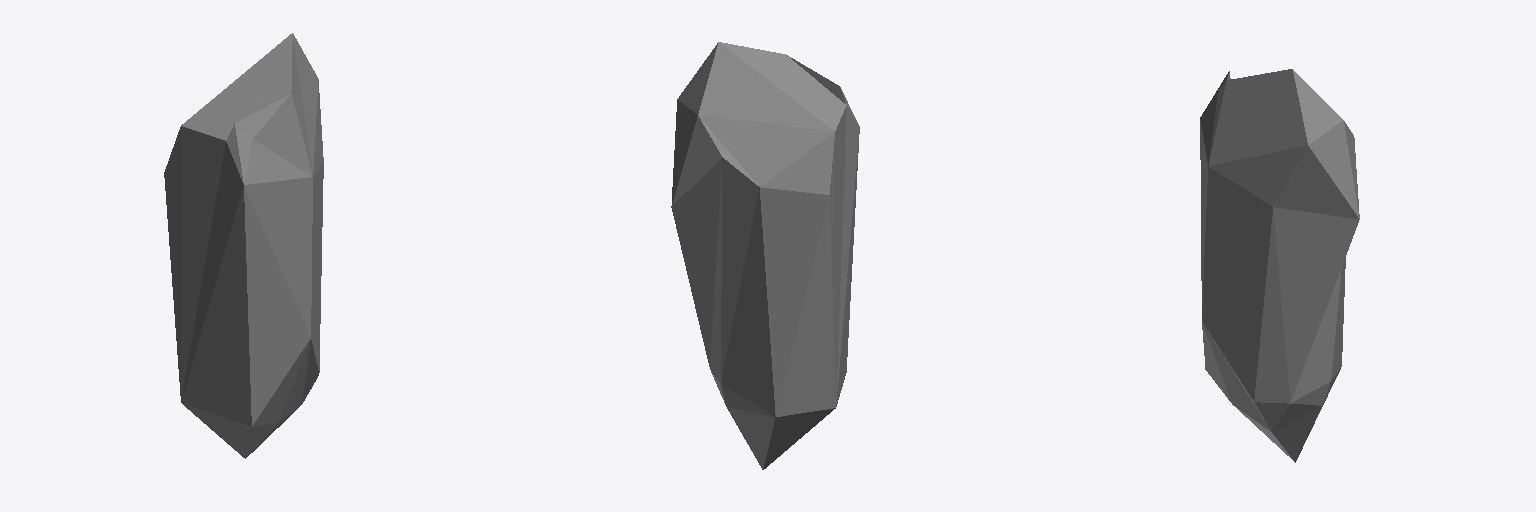
The picture shows the model from 3 angles: view 1: azimuth 30°, elevation 25°; view 2: azimuth 150°, elevation 25°; view 3: azimuth 270°, elevation 25°; orthographic projection.
Parts seen in each view (by area): view 1: mini5; view 2: mini5; view 3: mini5.
Part boxes in pixels (x1,y1,x2,y2): mini5: (164,33,323,458); mini5: (671,42,859,469); mini5: (1200,69,1359,462).
Bounding box in the file's own units: 0.614 × 1.59 × 0.5534.